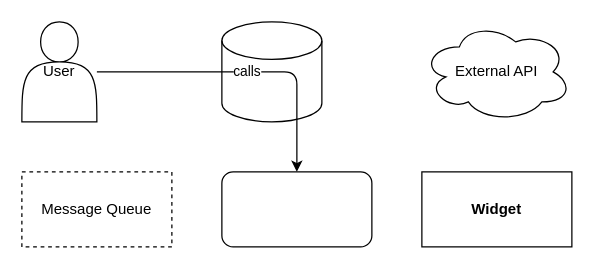
Image size: 594x269. Some labels were removed from this diagram. The centre of each missing label's shape, as x and y in pixels:
"Auth Service" belongs at [296,209].
"Database" belongs at [271,71].
